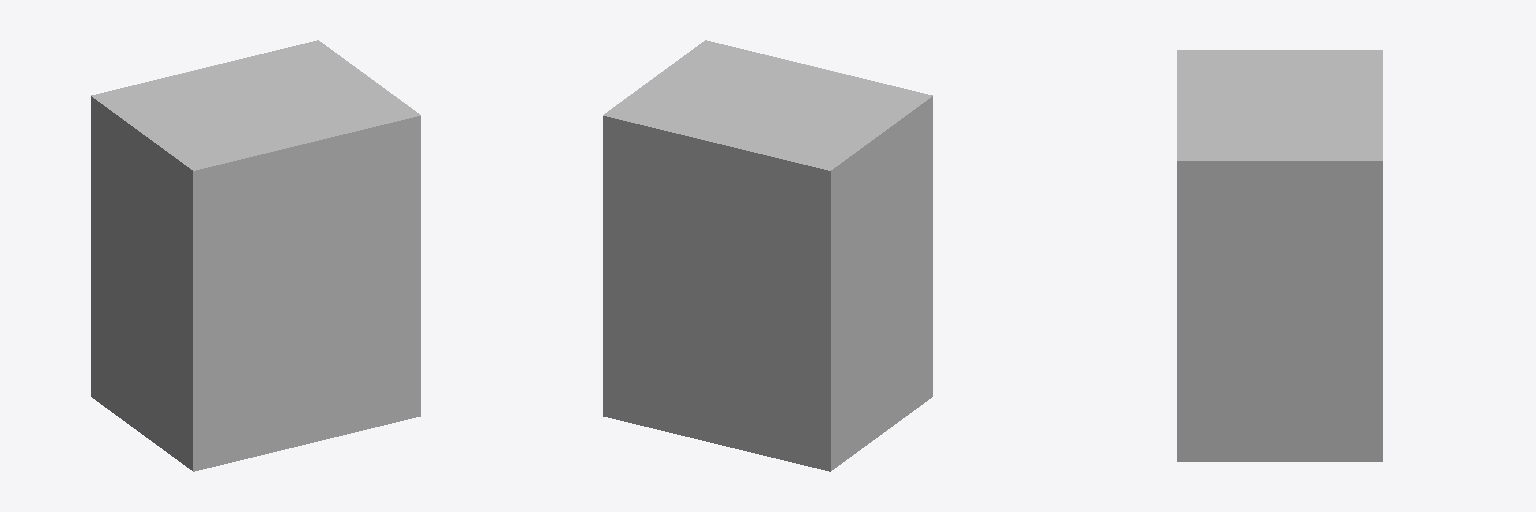
File: Suzy3.obj
3 views of the same model, side by side, from view 1: azimuth 30°, elevation 25°; view 2: azimuth 150°, elevation 25°; view 3: azimuth 270°, elevation 25° (orthographic).
Visible parts, largest first — view 1: Smoke_Domain_Cube.001; view 2: Smoke_Domain_Cube.001; view 3: Smoke_Domain_Cube.001.
Boxes of the visible parts, x1=… form: Smoke_Domain_Cube.001: x1=91, y1=40, x2=420, y2=471; Smoke_Domain_Cube.001: x1=603, y1=40, x2=932, y2=471; Smoke_Domain_Cube.001: x1=1177, y1=50, x2=1382, y2=461.
Bounding box in the file's own units: 4.73 × 5.97 × 3.7.